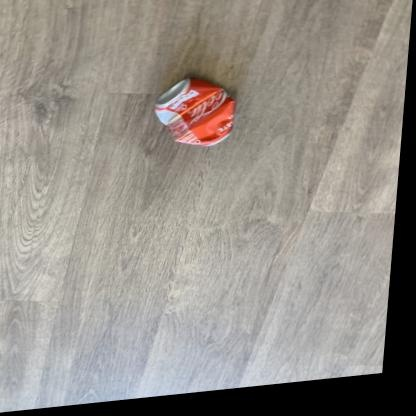trash: (155, 79, 235, 145)
